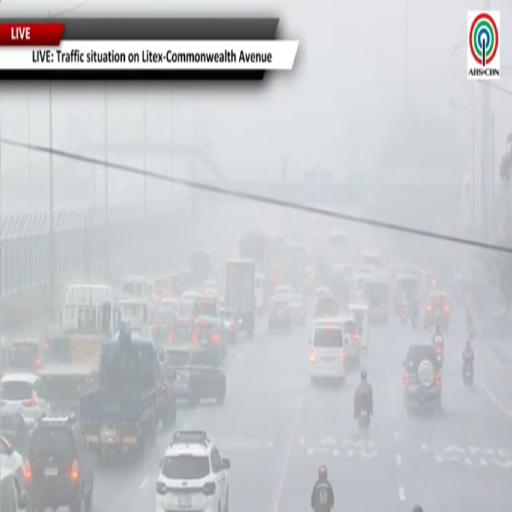car: (25, 416, 93, 511), (156, 431, 230, 511), (164, 345, 226, 406), (0, 374, 49, 427), (403, 344, 441, 411), (309, 318, 347, 382), (0, 436, 25, 507), (194, 316, 227, 362), (0, 410, 31, 455), (152, 298, 179, 343), (364, 277, 389, 324), (337, 315, 360, 364), (9, 340, 43, 372), (424, 292, 451, 331), (348, 303, 369, 350), (0, 467, 20, 511), (268, 296, 291, 332), (220, 307, 241, 343), (168, 318, 194, 345), (192, 296, 219, 317), (315, 295, 339, 317), (180, 291, 200, 317), (289, 294, 306, 324), (154, 277, 173, 300), (313, 287, 330, 310), (274, 284, 293, 297)
motorcycle: (463, 361, 473, 387), (358, 410, 369, 431), (435, 343, 443, 366), (411, 310, 419, 332), (401, 303, 408, 324), (468, 325, 474, 341)
truck: (80, 323, 176, 457), (38, 284, 117, 412), (225, 261, 255, 338), (283, 244, 309, 293), (239, 231, 266, 270), (267, 237, 285, 290), (190, 249, 213, 286)
